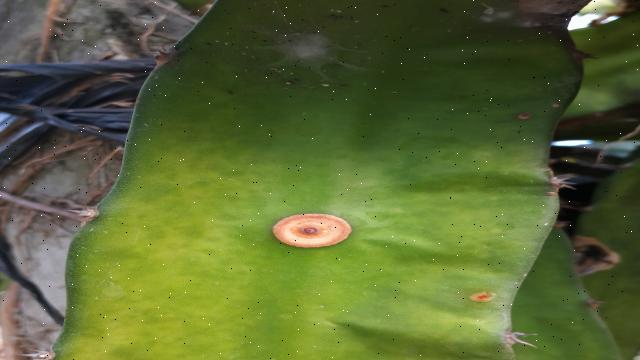stemcanker: (269, 210, 358, 250), (465, 289, 498, 305)
